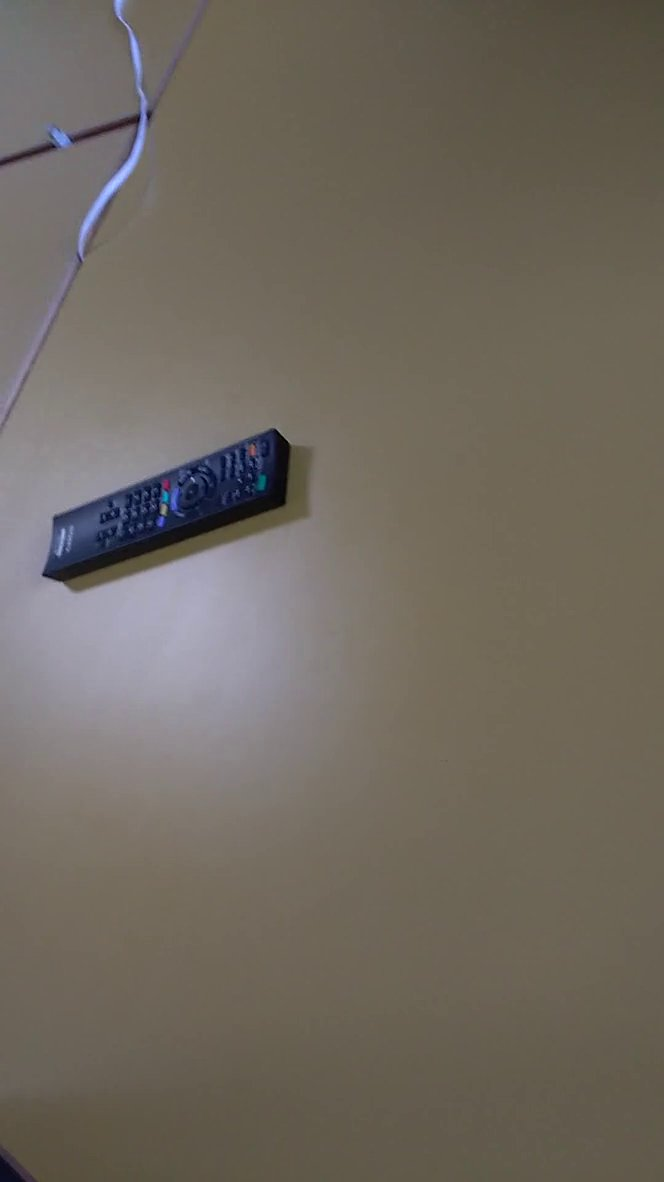remote: (27, 418, 325, 596)
